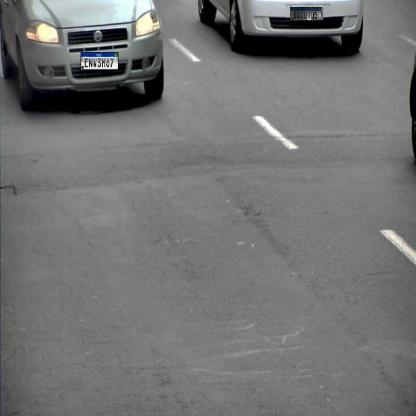PlacaM: (80, 52, 118, 70), (290, 7, 322, 21)
